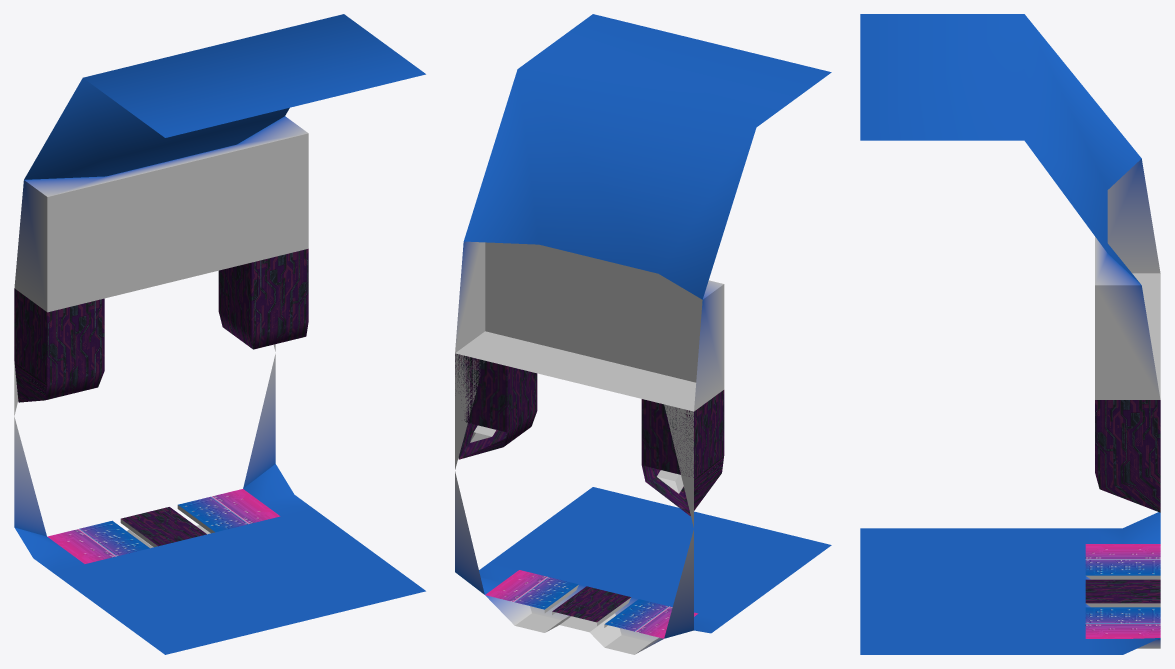
File: cbcavee1.FBX
3 views of the same model, side by side, from view 1: azimuth 30°, elevation 25°; view 2: azimuth 150°, elevation 25°; view 3: azimuth 270°, elevation 25° (orthographic). The views are drawn at different scales.
Parts seen in each view (by area): view 1: terrain, obj12, glass1, glass2; view 2: terrain, obj12, glass1, glass2, nodule1; view 3: terrain, obj12, glass1, glass2.
Part boxes in pixels (x1,y1,x2,y2): terrain: [14, 14, 425, 654]; obj12: [14, 248, 308, 402]; glass1: [47, 489, 280, 563]; glass2: [120, 507, 206, 547]; terrain: [455, 14, 831, 654]; obj12: [455, 354, 724, 515]; glass1: [485, 570, 698, 638]; glass2: [552, 586, 631, 625]; nodule1: [470, 425, 683, 647]; terrain: [860, 14, 1160, 654]; obj12: [1095, 400, 1160, 512]; glass1: [1085, 544, 1160, 638]; glass2: [1085, 579, 1160, 607].
Bounding box in the file's own units: 64 × 127 × 64.
